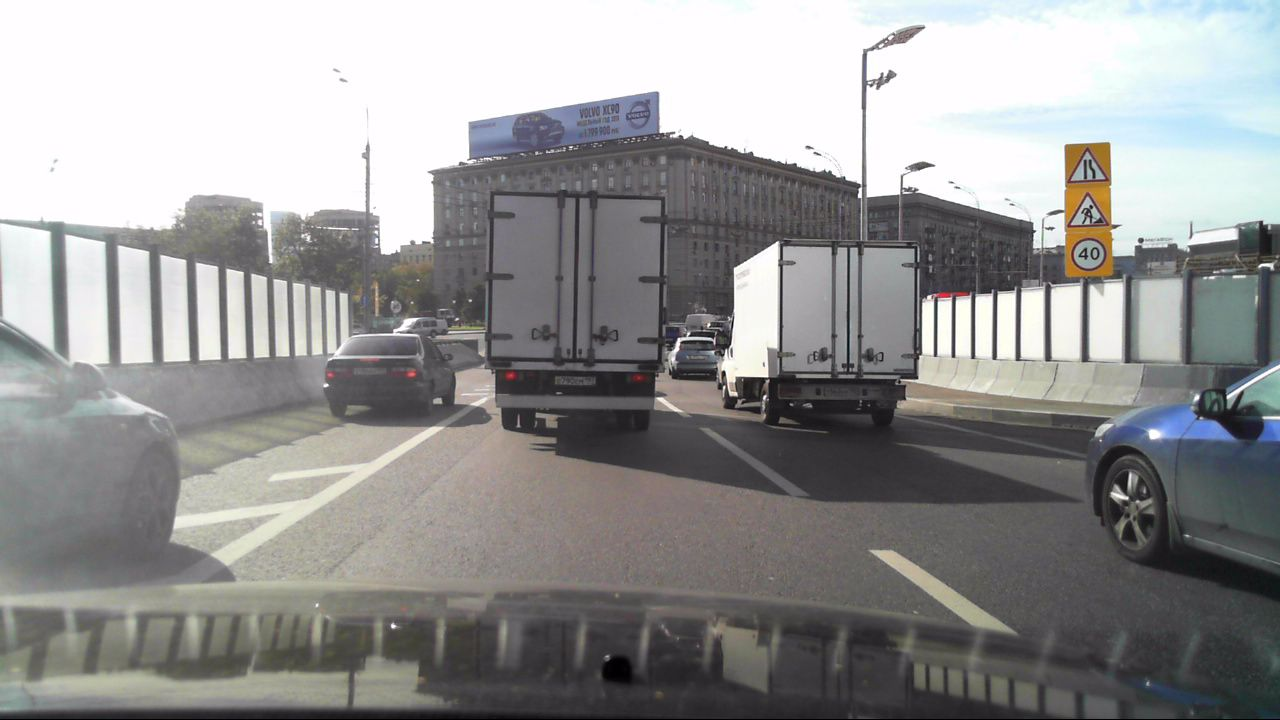speed_warning_40: (1065, 232, 1111, 275)
